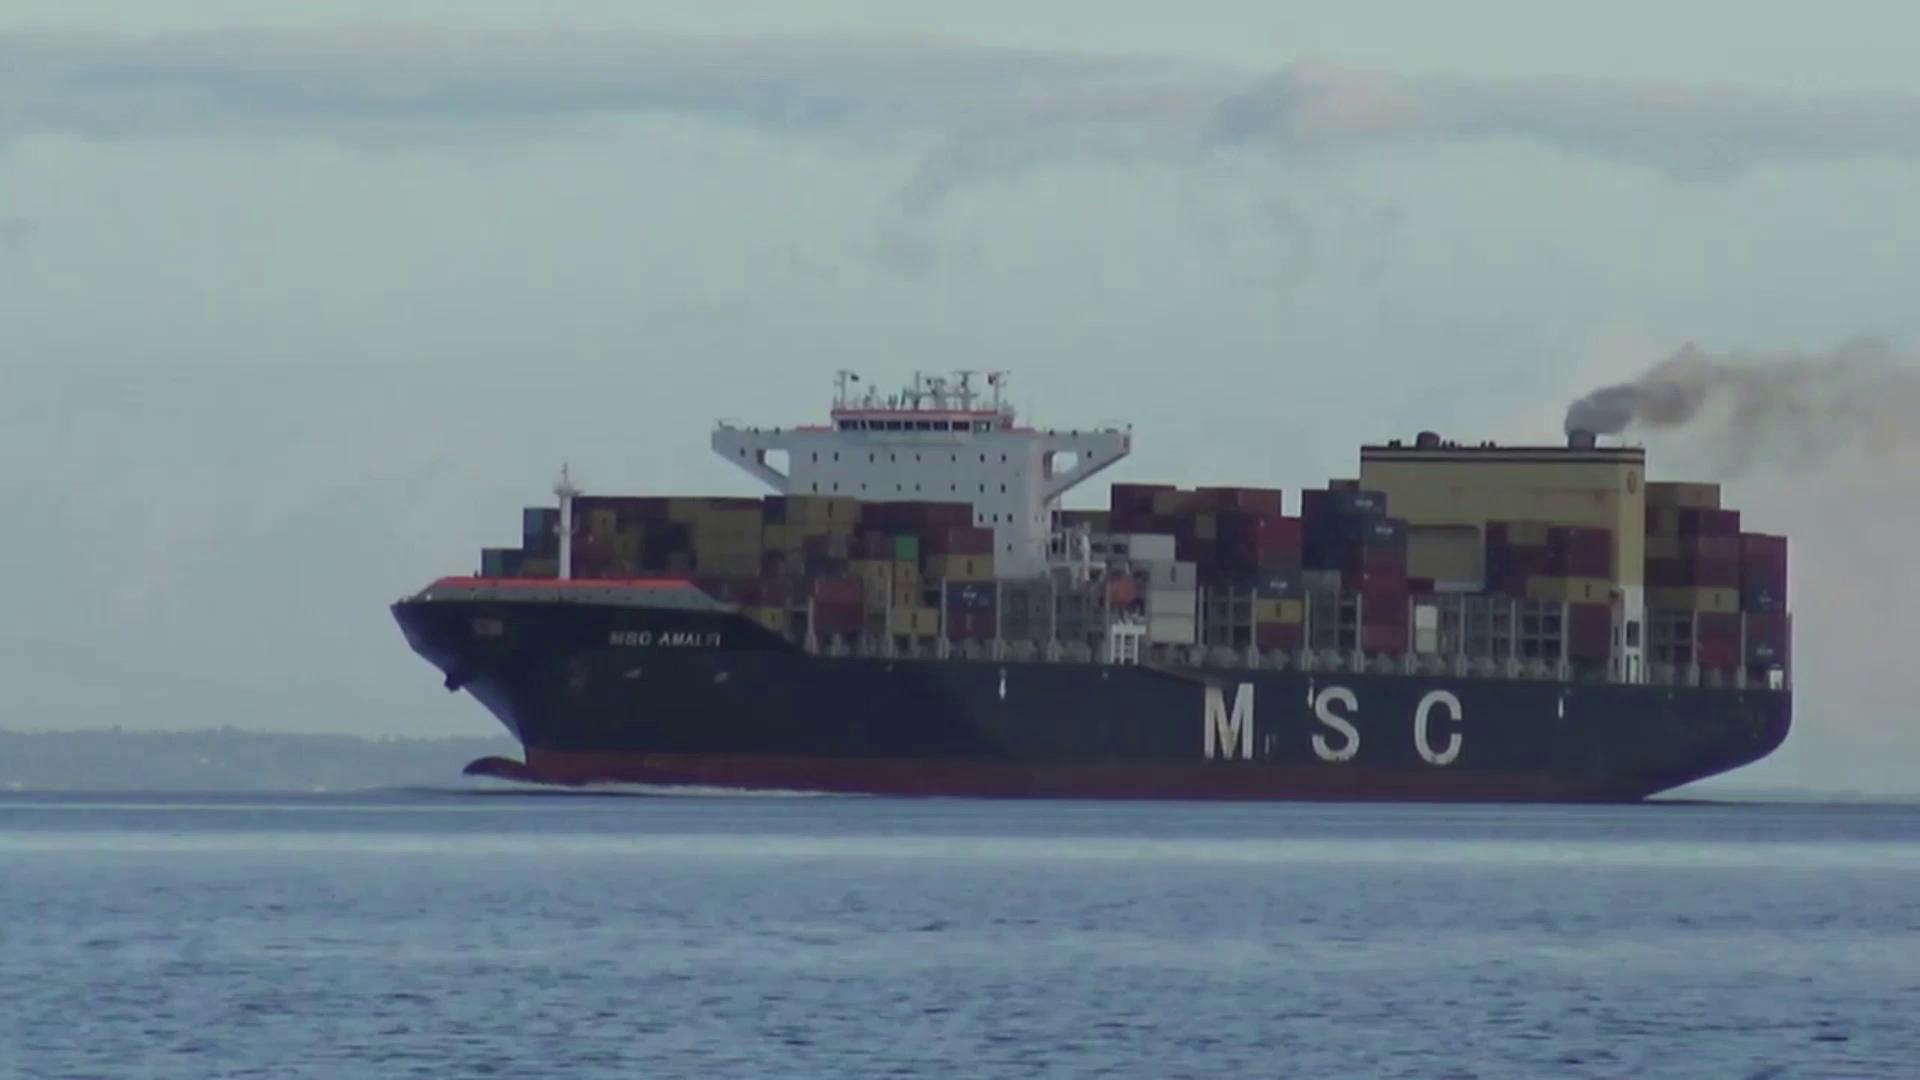OCR: (1199, 674, 1484, 781), (588, 615, 728, 659)
